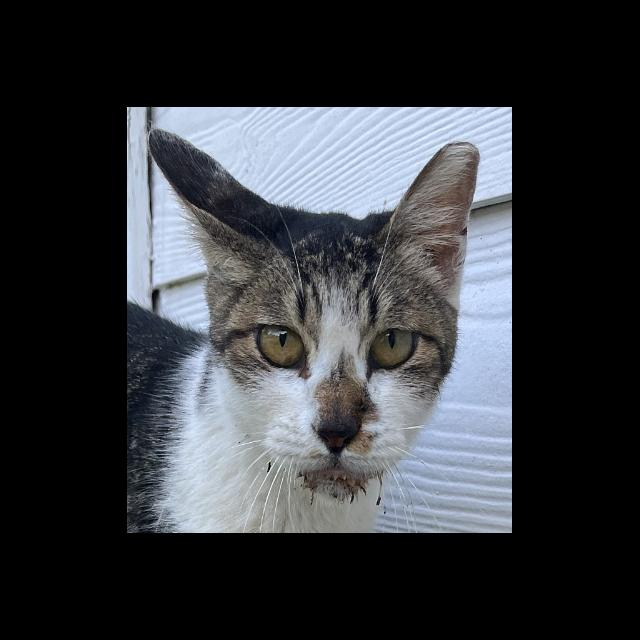animals: (144, 123, 485, 503)
